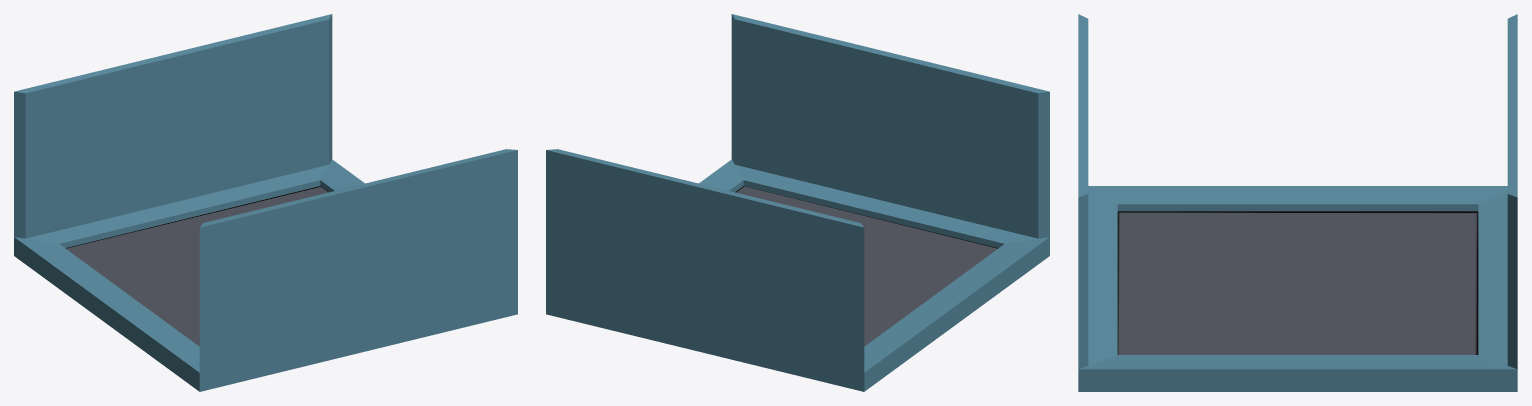
The model's file is Puente.fbx.
The picture shows the model from 3 angles, left to right: view 1: azimuth 30°, elevation 25°; view 2: azimuth 150°, elevation 25°; view 3: azimuth 270°, elevation 25°; orthographic projection. The views are drawn at different scales.
Parts seen in each view (by area): view 1: Cube; view 2: Cube; view 3: Cube.
Part boxes in pixels (x1,y1,x2,y2): Cube: [14, 14, 517, 391]; Cube: [546, 14, 1049, 391]; Cube: [1078, 14, 1517, 391].
Bounding box in the file's own units: 1003 × 495 × 1015.
Materials: 1 (1 with a texture image).
